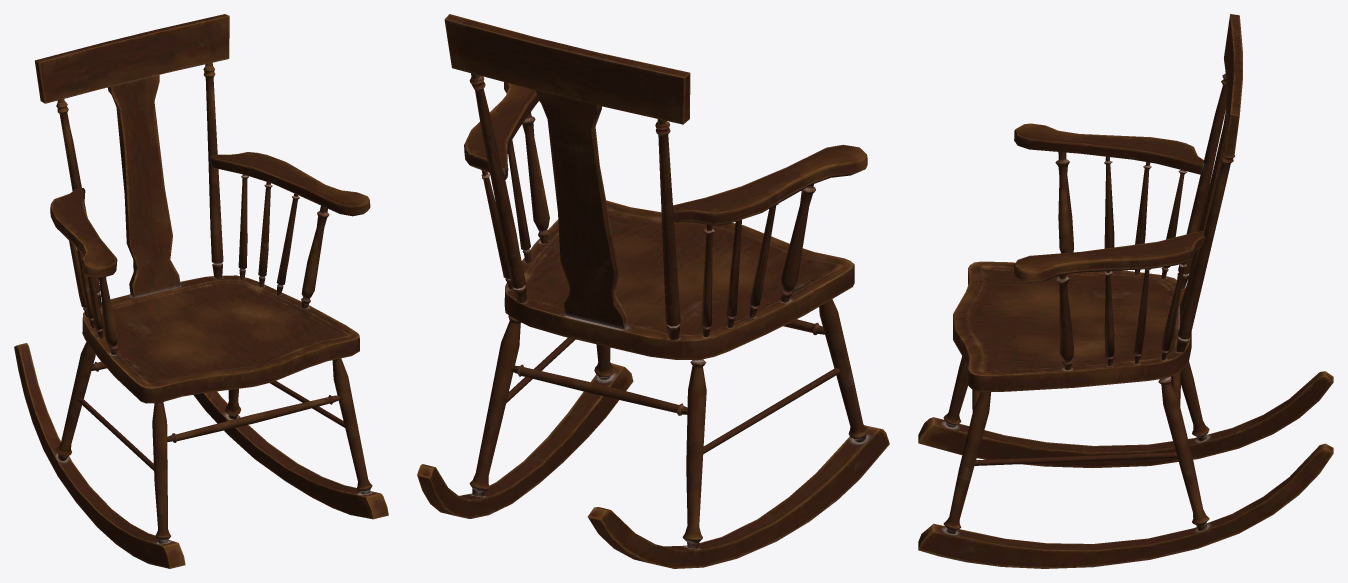
File: Rockingchair_01.glb
The picture shows the model from 3 angles, left to right: view 1: azimuth 30°, elevation 25°; view 2: azimuth 150°, elevation 25°; view 3: azimuth 270°, elevation 25°; orthographic projection. The views are drawn at different scales.
Visible parts, largest first — view 1: Rockingchair_01; view 2: Rockingchair_01; view 3: Rockingchair_01.
Boxes of the visible parts, <box> form: Rockingchair_01: <box>14,14,388,568</box>; Rockingchair_01: <box>417,14,889,568</box>; Rockingchair_01: <box>918,14,1333,568</box>.
Size of the model in its own units: 0.7081 by 0.9949 by 0.8335.
Materials: 1 (1 with a texture image).
